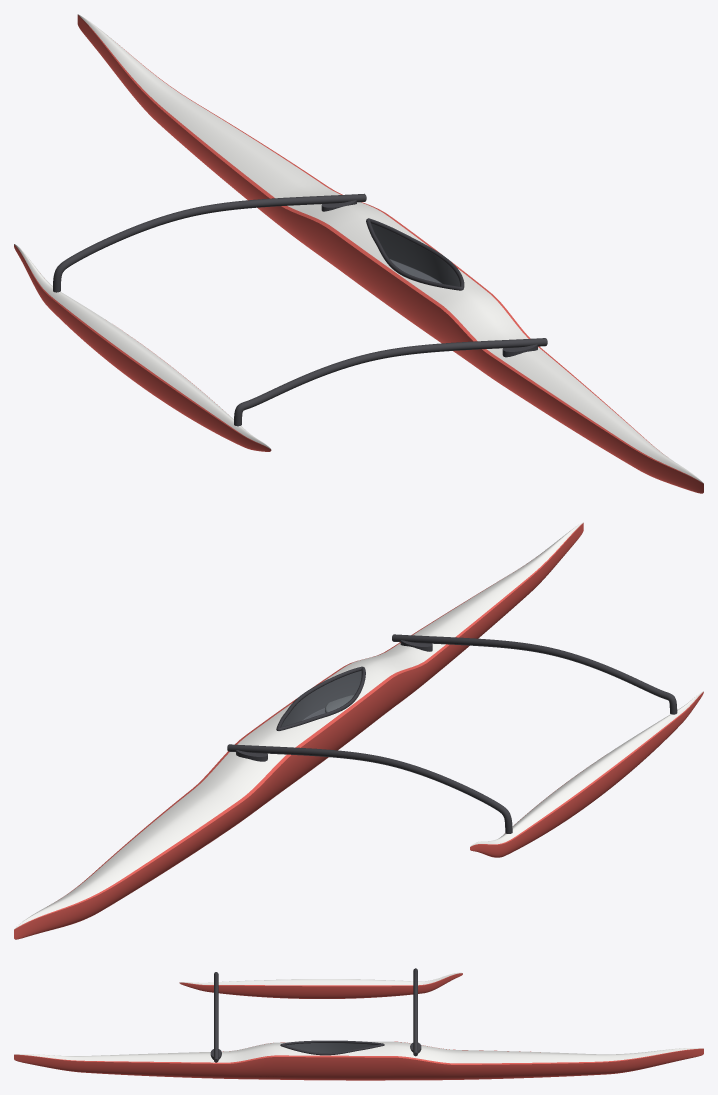
The model's file is canoe.glb.
3 views of the same model, one above another, from view 1: azimuth 30°, elevation 25°; view 2: azimuth 150°, elevation 25°; view 3: azimuth 270°, elevation 25° (orthographic). The views are drawn at different scales.
Parts seen in each view (by area): view 1: canoe; view 2: canoe; view 3: canoe.
Part boxes in pixels (x1,y1,x2,y2): canoe: (14, 14, 703, 493); canoe: (14, 522, 703, 939); canoe: (14, 968, 703, 1080).
Size of the model in its own units: 2.18 by 0.5623 by 7.3.
